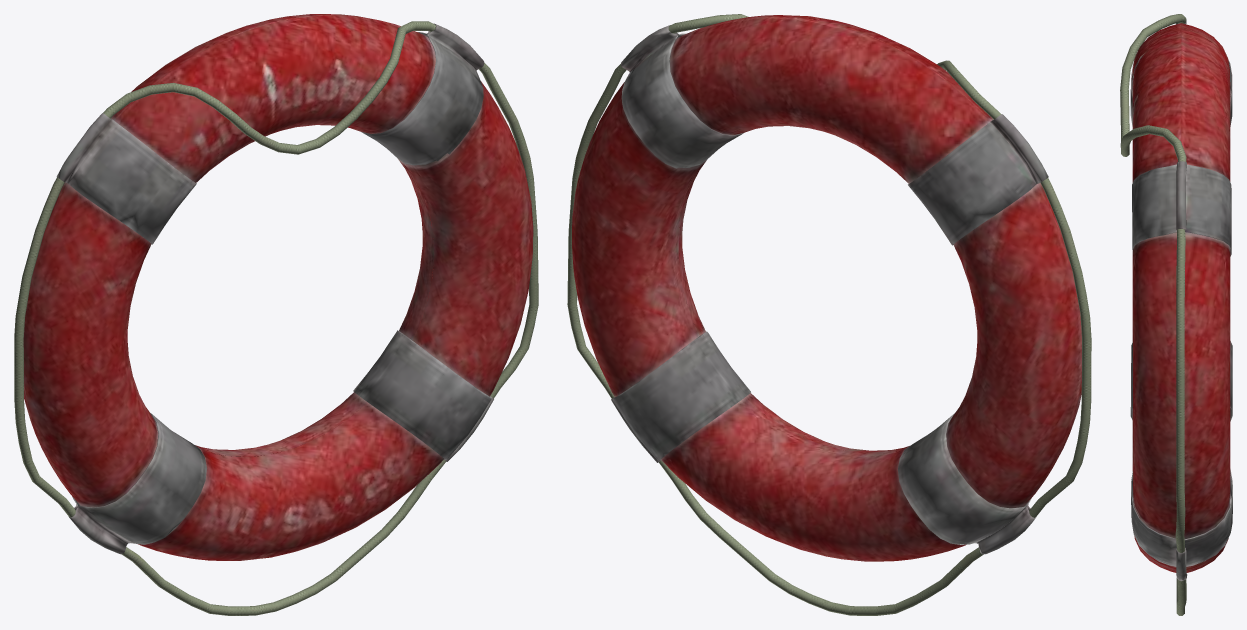
The model's file is lifebuoy.glb.
3 views of the same model, side by side, from view 1: azimuth 30°, elevation 25°; view 2: azimuth 150°, elevation 25°; view 3: azimuth 270°, elevation 25° (orthographic). The views are drawn at different scales.
Visible parts, largest first — view 1: lifebuoy; view 2: lifebuoy; view 3: lifebuoy.
Boxes of the visible parts, x1,y1,x2,y2 form: lifebuoy: (14,14,538,615); lifebuoy: (567,14,1091,615); lifebuoy: (1120,14,1232,615).
Bounding box in the file's own units: 0.7829 × 0.8412 × 0.1551.
1 material, 1 textured.
